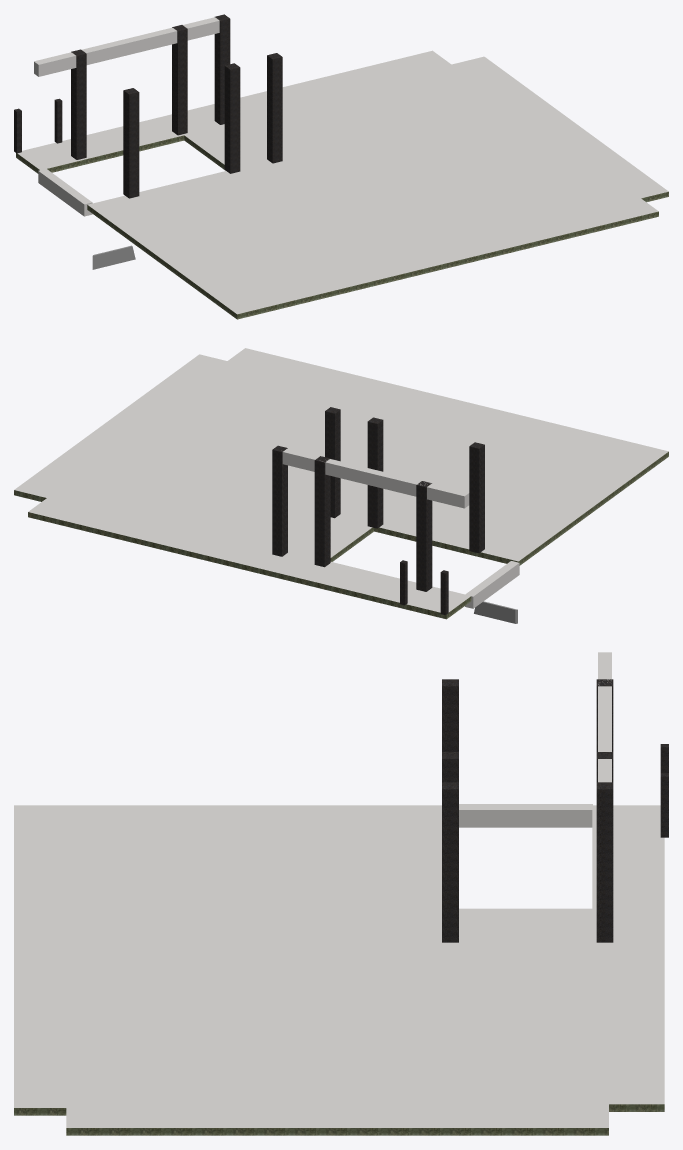
3 renders of one model, top to bottom at view 1: azimuth 30°, elevation 25°; view 2: azimuth 150°, elevation 25°; view 3: azimuth 270°, elevation 25°, orthographic. The views are drawn at different scales.
Visible parts, largest first — view 1: Floor Floor-Grnd-Susp_65Scr-80Ins-100Blk-75PC [658864]001, Concrete - Rectangular Beam 250 x 350 mm [688552]001, Columns_Rectangular 300 x 300 mm [662658]001, Columns_Rectangular 300 x 300 mm [662739]001, Columns_Rectangular 300 x 300 mm [662555]001, Columns_Rectangular 300 x 300 mm [661975]001, Columns_Rectangular 300 x 300 mm [662213]001, Columns_Rectangular 300 x 300 mm [662474]001, Concrete - Rectangular Beam 250 x 350 mm [673719]001, Assembled Stair Stair [675302]_[675345]001; view 2: Floor Floor-Grnd-Susp_65Scr-80Ins-100Blk-75PC [658864]001, Concrete - Rectangular Beam 250 x 350 mm [688552]001, Columns_Rectangular 300 x 300 mm [662213]001, Columns_Rectangular 300 x 300 mm [661975]001, Columns_Rectangular 300 x 300 mm [662739]001, Columns_Rectangular 300 x 300 mm [662474]001, Columns_Rectangular 300 x 300 mm [662658]001, Columns_Rectangular 300 x 300 mm [662555]001, Concrete - Rectangular Beam 250 x 350 mm [673719]001, Assembled Stair Stair [675302]_[675345]001; view 3: Floor Floor-Grnd-Susp_65Scr-80Ins-100Blk-75PC [658864]001, Concrete - Rectangular Beam 250 x 350 mm [673719]001, Columns_Rectangular 300 x 300 mm [662474]001, Columns_Rectangular 300 x 300 mm [662555]001, Concrete - Rectangular Beam 250 x 350 mm [688552]001, Columns_Rectangular 300 x 300 mm [662739]001.
Boxes of the visible parts, x1,y1,x2,y2 form: Floor Floor-Grnd-Susp_65Scr-80Ins-100Blk-75PC [658864]001: (16, 50, 668, 319); Concrete - Rectangular Beam 250 x 350 mm [688552]001: (34, 17, 219, 76); Columns_Rectangular 300 x 300 mm [662658]001: (224, 63, 240, 173); Columns_Rectangular 300 x 300 mm [662739]001: (123, 88, 139, 198); Columns_Rectangular 300 x 300 mm [662555]001: (267, 53, 282, 163); Columns_Rectangular 300 x 300 mm [661975]001: (71, 49, 86, 159); Columns_Rectangular 300 x 300 mm [662213]001: (172, 25, 187, 135); Columns_Rectangular 300 x 300 mm [662474]001: (214, 14, 230, 124); Concrete - Rectangular Beam 250 x 350 mm [673719]001: (38, 169, 92, 216); Assembled Stair Stair [675302]_[675345]001: (92, 245, 135, 269); Floor Floor-Grnd-Susp_65Scr-80Ins-100Blk-75PC [658864]001: (14, 348, 668, 619); Concrete - Rectangular Beam 250 x 350 mm [688552]001: (282, 448, 469, 508); Columns_Rectangular 300 x 300 mm [662213]001: (314, 456, 330, 567); Columns_Rectangular 300 x 300 mm [661975]001: (416, 481, 432, 591); Columns_Rectangular 300 x 300 mm [662739]001: (469, 442, 484, 553); Columns_Rectangular 300 x 300 mm [662474]001: (272, 445, 287, 556); Columns_Rectangular 300 x 300 mm [662658]001: (367, 417, 383, 528); Columns_Rectangular 300 x 300 mm [662555]001: (325, 407, 340, 518); Concrete - Rectangular Beam 250 x 350 mm [673719]001: (465, 561, 519, 608); Assembled Stair Stair [675302]_[675345]001: (474, 601, 517, 623); Floor Floor-Grnd-Susp_65Scr-80Ins-100Blk-75PC [658864]001: (14, 805, 664, 1135); Concrete - Rectangular Beam 250 x 350 mm [673719]001: (459, 804, 592, 827); Columns_Rectangular 300 x 300 mm [662474]001: (596, 782, 613, 942); Columns_Rectangular 300 x 300 mm [662555]001: (442, 782, 458, 942); Concrete - Rectangular Beam 250 x 350 mm [688552]001: (598, 652, 611, 782); Columns_Rectangular 300 x 300 mm [662739]001: (442, 679, 458, 751).
Size of the model in its own units: 13.62 by 4.85 by 11.63.
5 materials, 2 textured.
